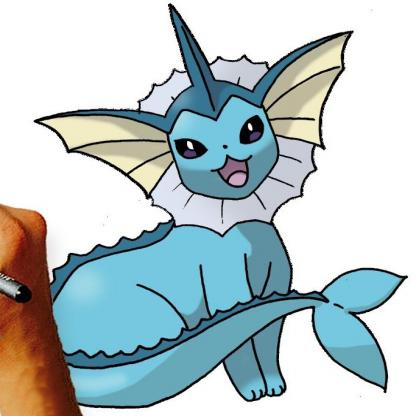Vaporeon: (40, 9, 416, 404)
